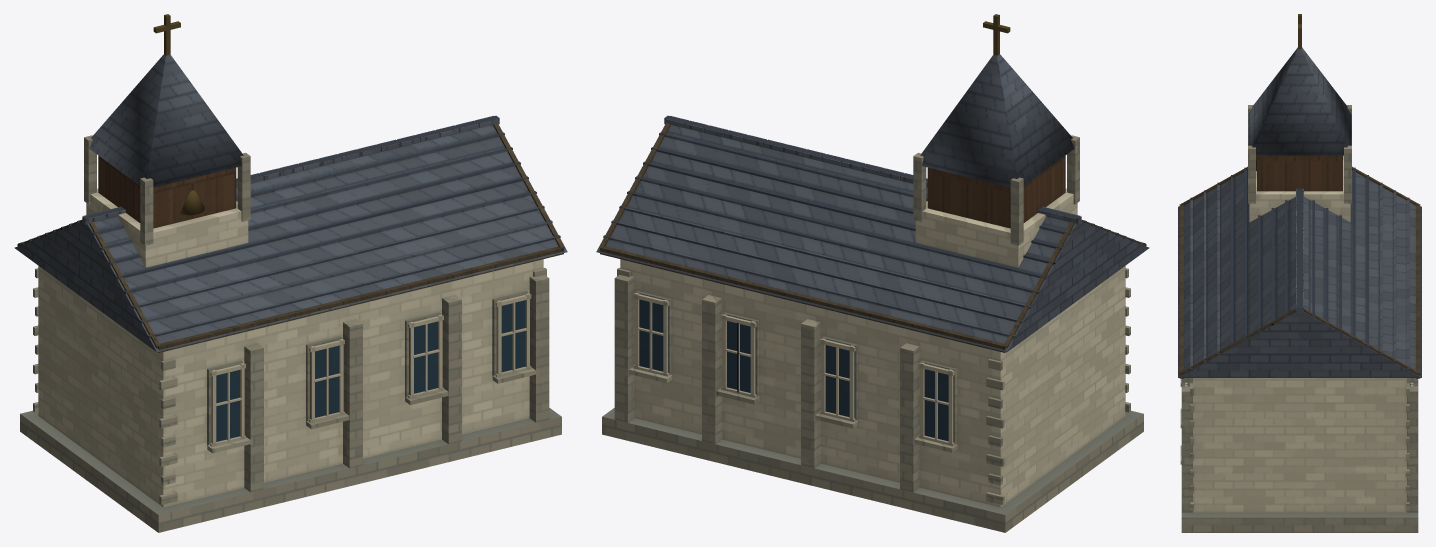
File: chapel.glb
3 views of the same model, side by side, from view 1: azimuth 30°, elevation 25°; view 2: azimuth 150°, elevation 25°; view 3: azimuth 270°, elevation 25° (orthographic). The views are drawn at different scales.
Parts seen in each view (by area): view 1: chapel; view 2: chapel; view 3: chapel.
Boxes of the visible parts, <box> form: chapel: <box>14,14,567,532</box>; chapel: <box>596,14,1149,532</box>; chapel: <box>1178,14,1421,532</box>.
Bounding box in the file's own units: 10.88 × 11.25 × 6.5.
1 material, 1 textured.
